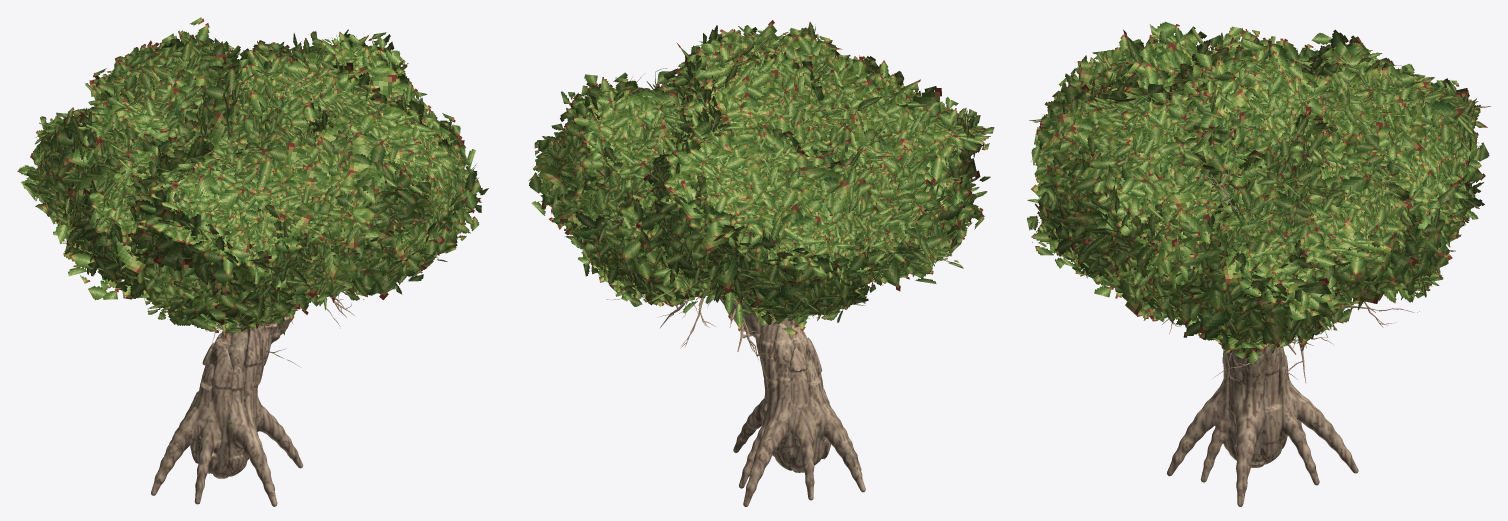
The model's file is macieira_inclinada.glb.
3 renders of one model, left to right at view 1: azimuth 30°, elevation 25°; view 2: azimuth 150°, elevation 25°; view 3: azimuth 270°, elevation 25°, orthographic. The views are drawn at different scales.
Parts seen in each view (by area): view 1: macieira_inclinada; view 2: macieira_inclinada; view 3: macieira_inclinada.
Boxes of the visible parts, x1=… form: macieira_inclinada: x1=17, y1=17, x2=488, y2=506; macieira_inclinada: x1=528, y1=20, x2=994, y2=506; macieira_inclinada: x1=1027, y1=22, x2=1490, y2=506.
Bounding box in the file's own units: 6.33 × 6.43 × 6.
Materials: 3 (1 with a texture image).
